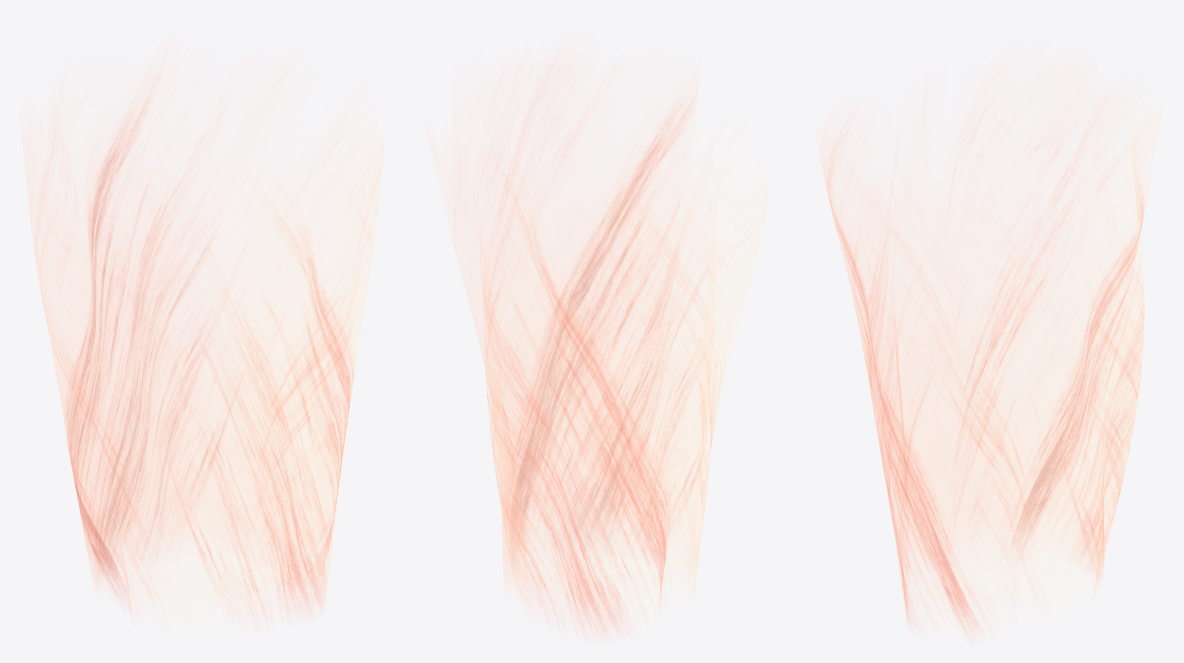
Rendered from devil_outer_2.glb.
3 renders of one model, left to right at view 1: azimuth 30°, elevation 25°; view 2: azimuth 150°, elevation 25°; view 3: azimuth 270°, elevation 25°, orthographic. The views are drawn at different scales.
Parts seen in each view (by area): view 1: devil_outer_2; view 2: devil_outer_2; view 3: devil_outer_2.
Part boxes in pixels (bbox=[...]): devil_outer_2: bbox=[21, 66, 383, 624]; devil_outer_2: bbox=[427, 58, 767, 633]; devil_outer_2: bbox=[819, 71, 1159, 634].
Size of the model in its own units: 14.98 by 22.4 by 14.42.
Materials: 1 (1 with a texture image).
